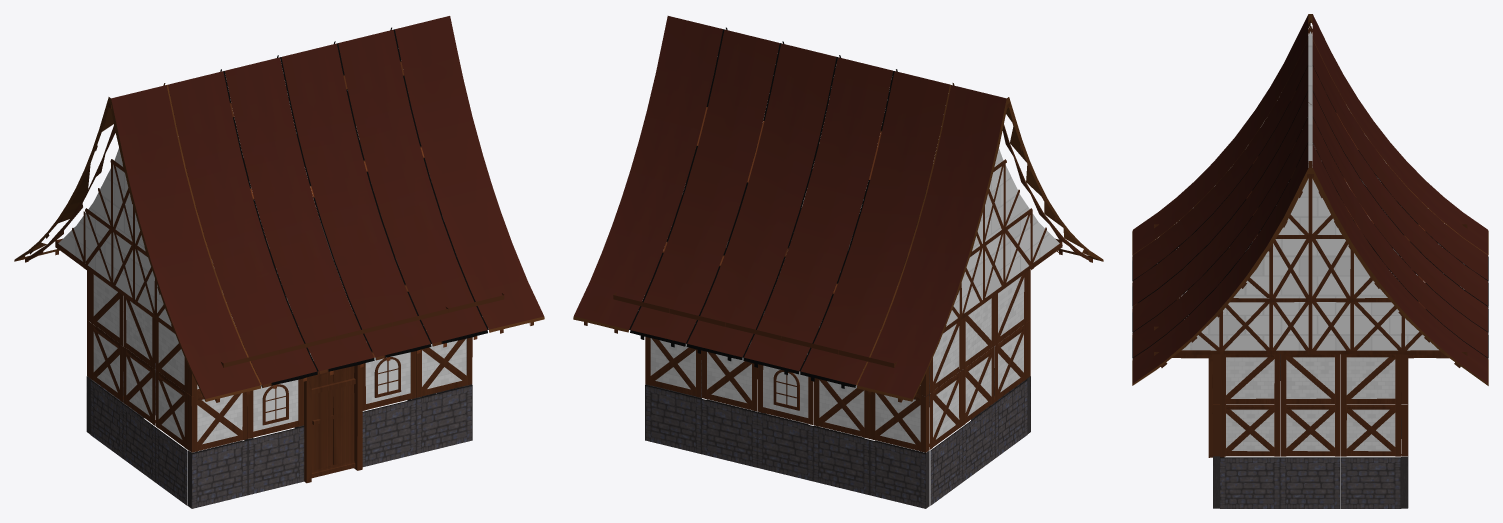
Rendered from House3_LOD3.fbx.
3 renders of one model, left to right at view 1: azimuth 30°, elevation 25°; view 2: azimuth 150°, elevation 25°; view 3: azimuth 270°, elevation 25°, orthographic. The views are drawn at different scales.
Parts seen in each view (by area): view 1: House3_LOD3; view 2: House3_LOD3; view 3: House3_LOD3.
Part boxes in pixels (x1,y1,x2,y2): House3_LOD3: (14, 16, 544, 508); House3_LOD3: (573, 16, 1103, 508); House3_LOD3: (1132, 14, 1488, 508).
Bounding box in the file's own units: 1282 × 1370 × 1250.
